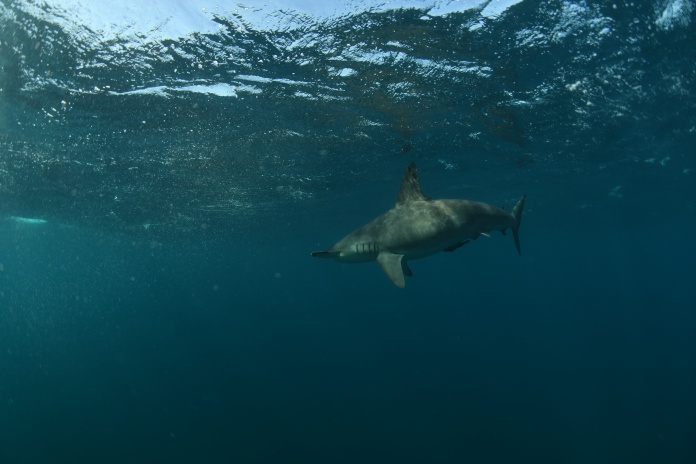Hammer: (282, 164, 548, 314)
